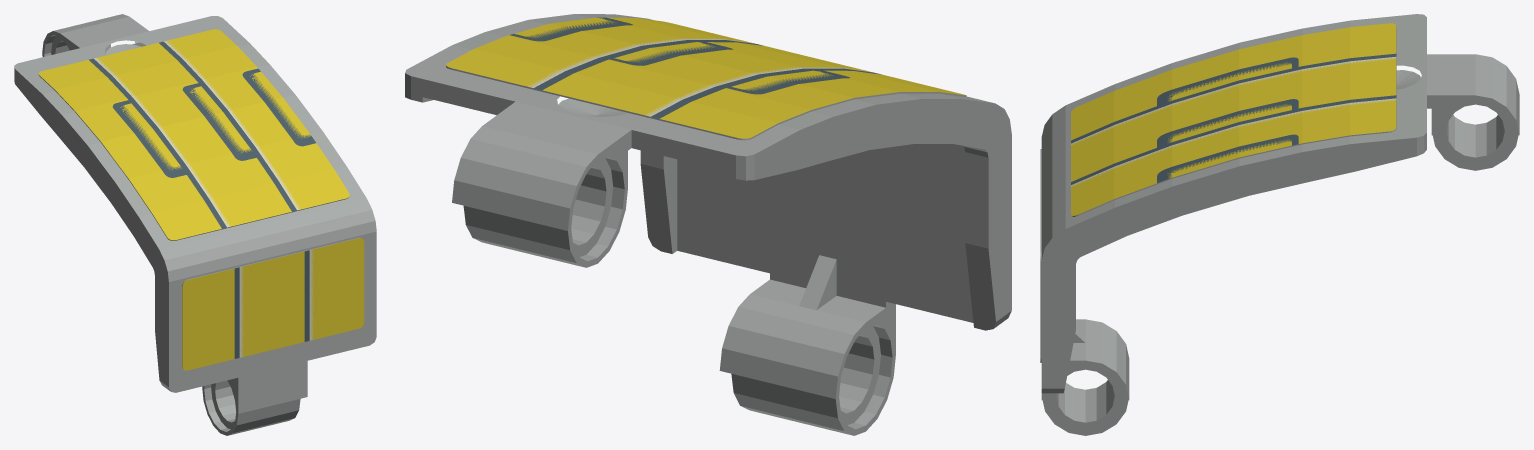
3 renders of one model, left to right at view 1: azimuth 30°, elevation 25°; view 2: azimuth 150°, elevation 25°; view 3: azimuth 270°, elevation 25°, orthographic. The views are drawn at different scales.
Visible parts, largest first — view 1: world; view 2: world; view 3: world.
Part boxes in pixels (bbox=[...]): world: bbox=[14, 14, 376, 435]; world: bbox=[405, 14, 1011, 435]; world: bbox=[1040, 14, 1519, 435].
Size of the model in its own units: 0.024 by 0.0312 by 0.0393.
